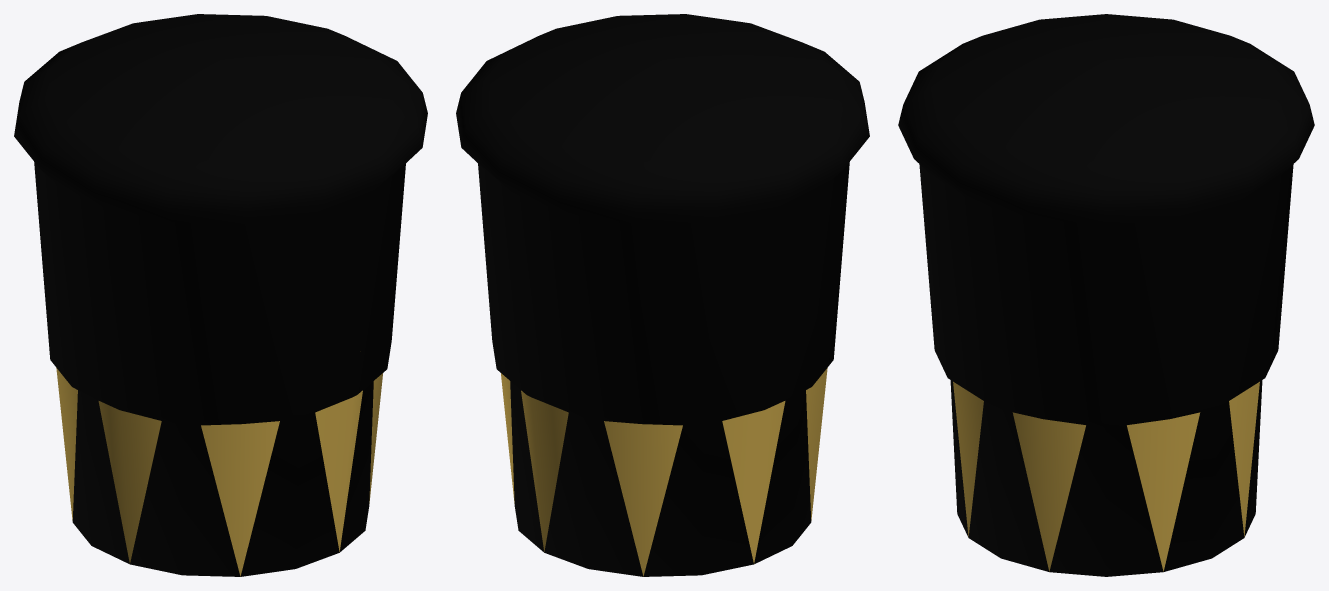
File: sandbarrel.dae
3 views of the same model, side by side, from view 1: azimuth 30°, elevation 25°; view 2: azimuth 150°, elevation 25°; view 3: azimuth 270°, elevation 25° (orthographic).
Parts seen in each view (by area): view 1: sandbarrel_a150, sandbarrel_a016; view 2: sandbarrel_a150, sandbarrel_a016; view 3: sandbarrel_a150, sandbarrel_a016.
Boxes of the visible parts, x1,y1,x2,y2 form: sandbarrel_a150: [14, 14, 427, 576]; sandbarrel_a016: [56, 368, 382, 576]; sandbarrel_a150: [456, 14, 869, 576]; sandbarrel_a016: [501, 368, 827, 576]; sandbarrel_a150: [898, 14, 1314, 576]; sandbarrel_a016: [953, 381, 1259, 571].
Bounding box in the file's own units: 1.31 × 1.31 × 1.58.
